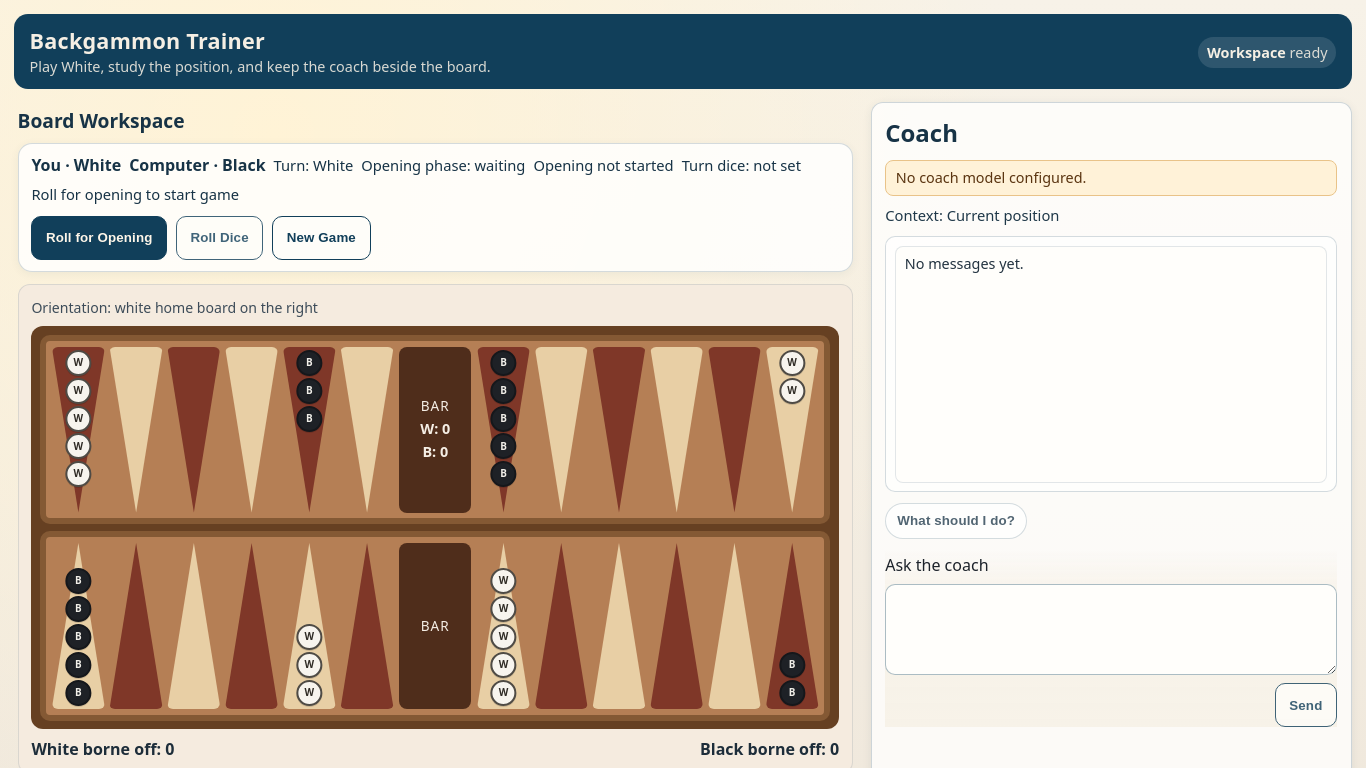
Test case: App opening roll lifecycle › shows deterministic opening dice results and starts white when white die is higher
Click the button "Roll for Opening": coordinates (99, 238) [31,216,167,260]
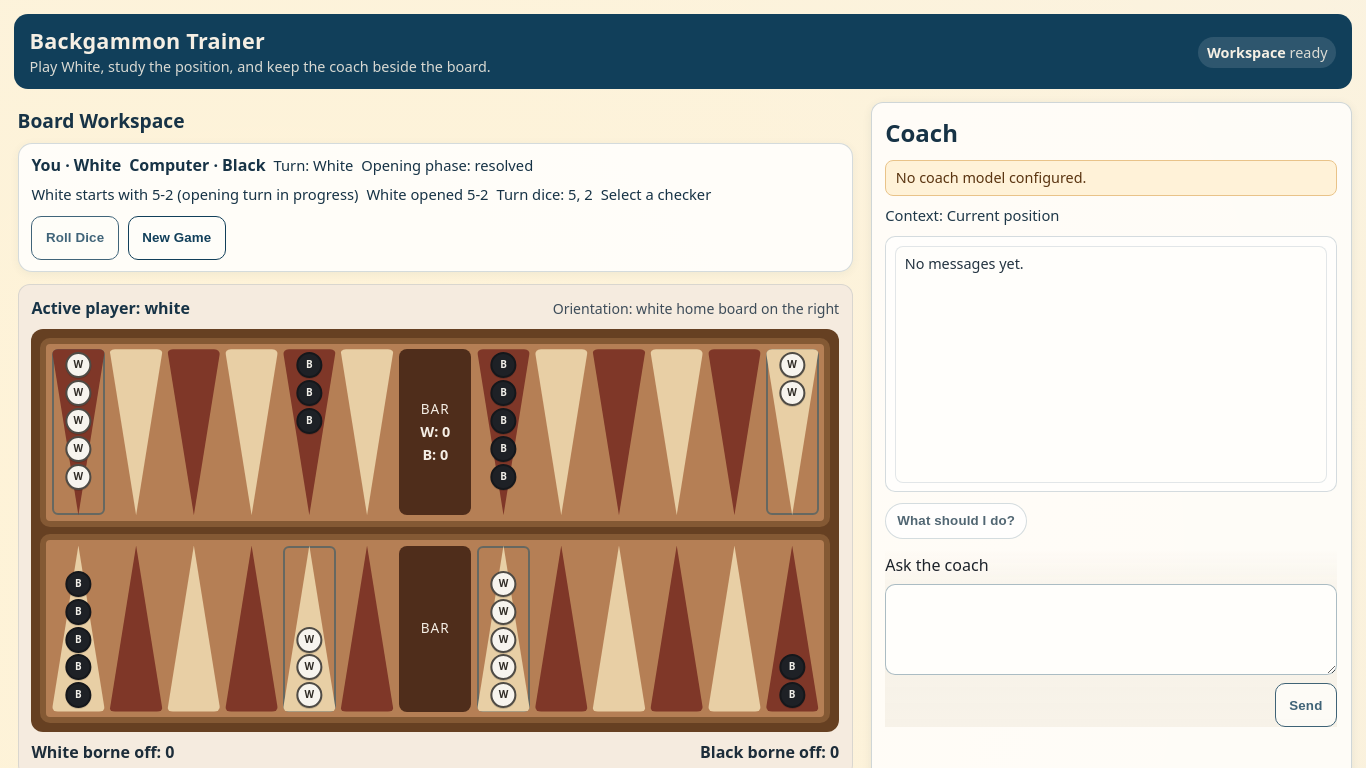
Check: the text with test id "opening-resolution" shows "White starts with 5-2", box [31,185,358,204]
Check: the text with test id "turn-dice-value" reads "Turn dice: 5, 2", box [496,184,593,204]
